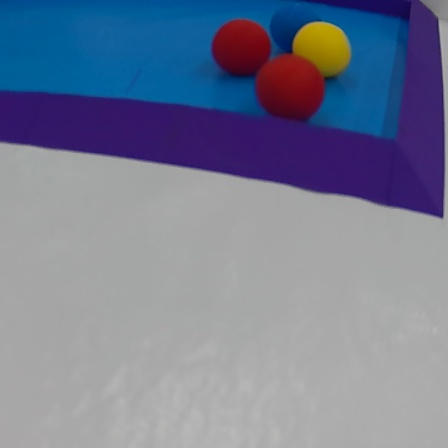blue: (266, 2, 320, 62)
blue_aim: (2, 6, 448, 226)
red: (252, 52, 329, 127), (211, 18, 278, 75)
yellow: (292, 18, 354, 90)
